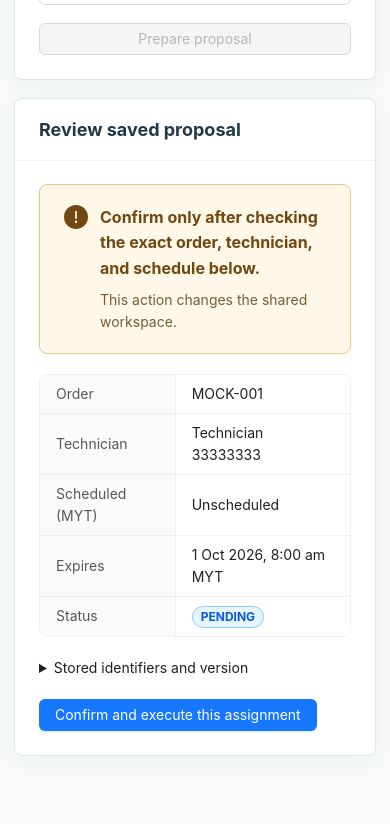
assignment proposal rendered state › does not preselect a hidden order and blocks rejected proposal confirmation
The width and height of the screenshot is (390, 824).
(page scrolled)
Expected: the text "Review saved proposal" is shown, [39, 119, 241, 140]
Step 1. Click the button "Confirm and execute this assignment" → (178, 715), box [39, 699, 317, 731]
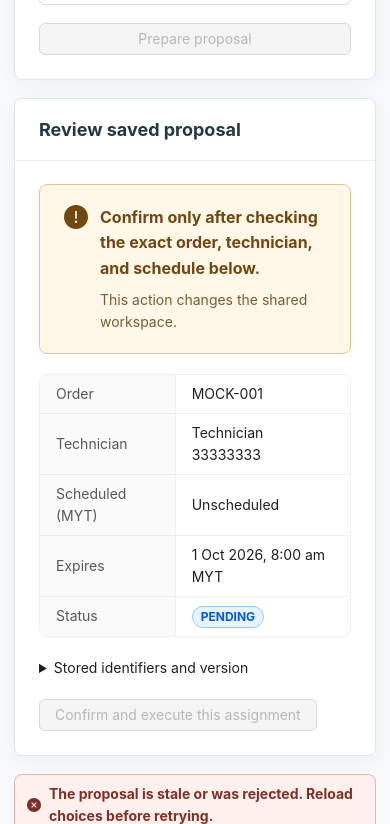
Expected: the button "Confirm and execute this assignment" is disabled, [39, 699, 317, 731]
